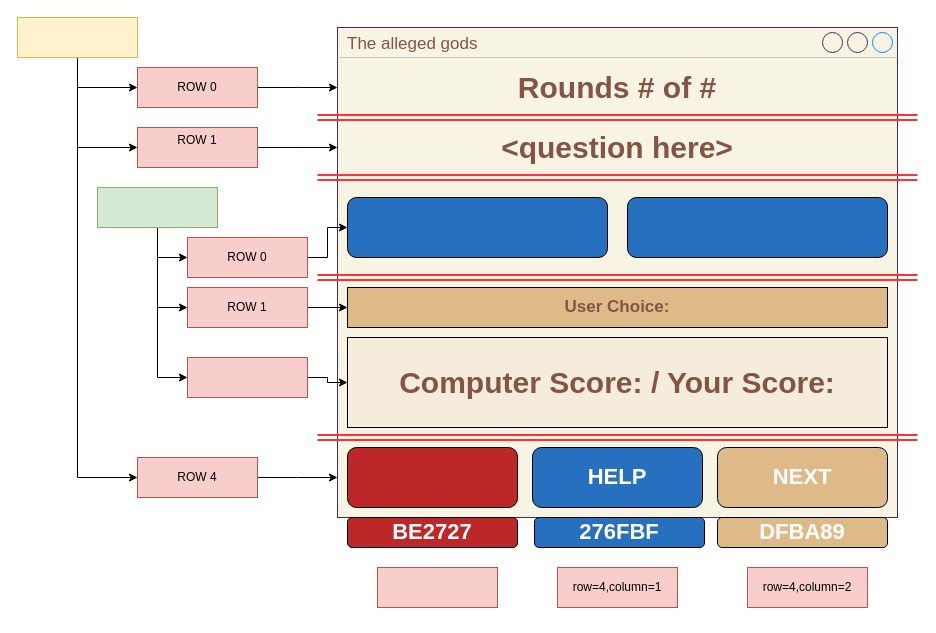
This 936x633 diagram has some shape labels left out. Each missing label, with the centre of its shape:
"Option 1" goes at point 477,227.
"Option 2" goes at point 757,227.
"option_frame" goes at point 157,207.
"PLAY SUMMARY" goes at point 432,477.
"play_frame" goes at point 77,37.
"ROW 2" goes at point 247,377.
"row=4,column=0" goes at point 437,587.
